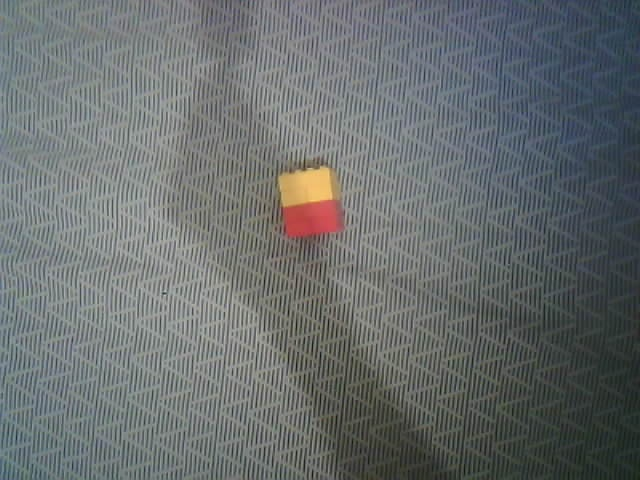lego: (275, 165, 345, 239)
